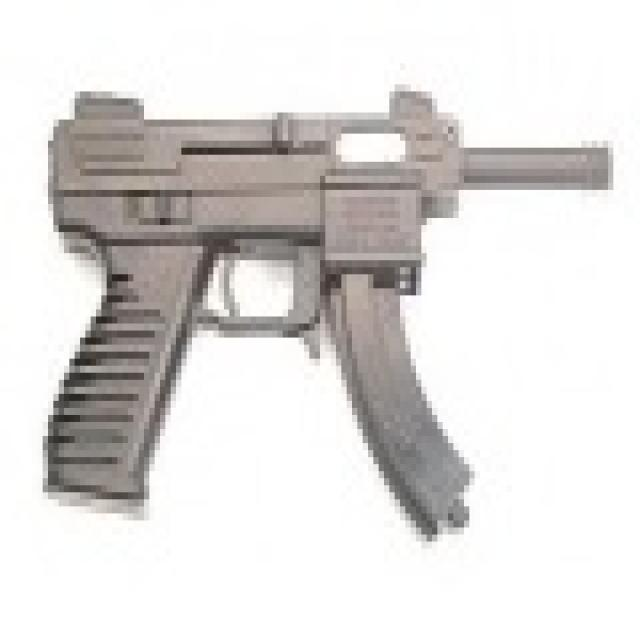Gun: (28, 56, 620, 558)
